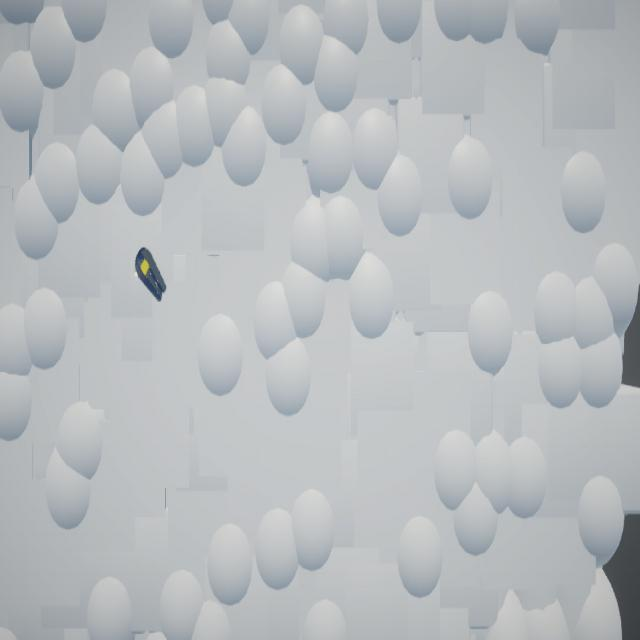handle_folk: (136, 247, 168, 304)
